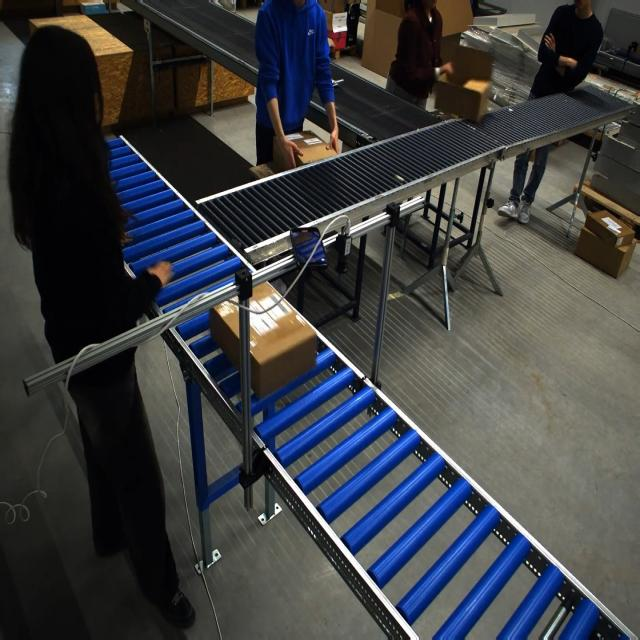box: (209, 283, 313, 396), (436, 39, 492, 88), (278, 129, 340, 171), (434, 78, 488, 124)
product: (332, 79, 344, 88)
